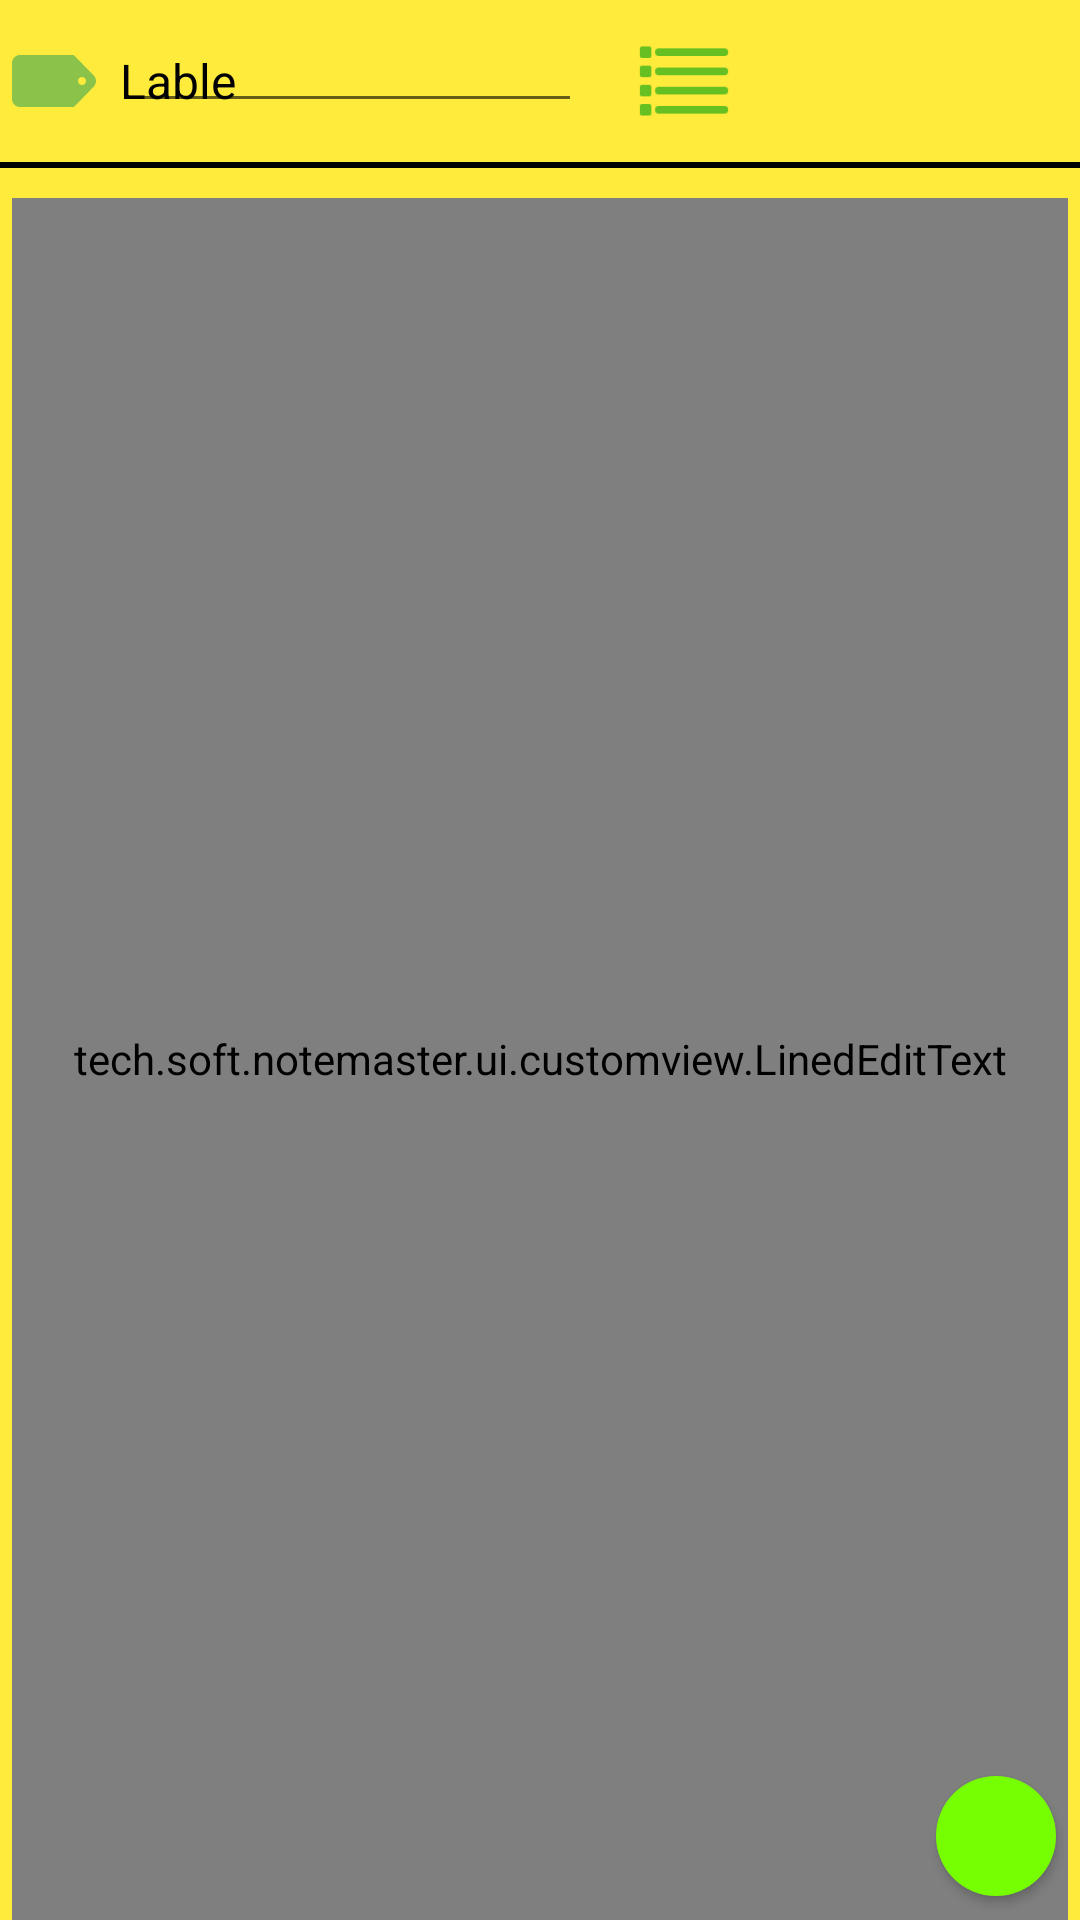

Where icons sit on this 1080×1920 app screen, as [x1,y1,x2,y2]:
labels: [12,55,96,107]
